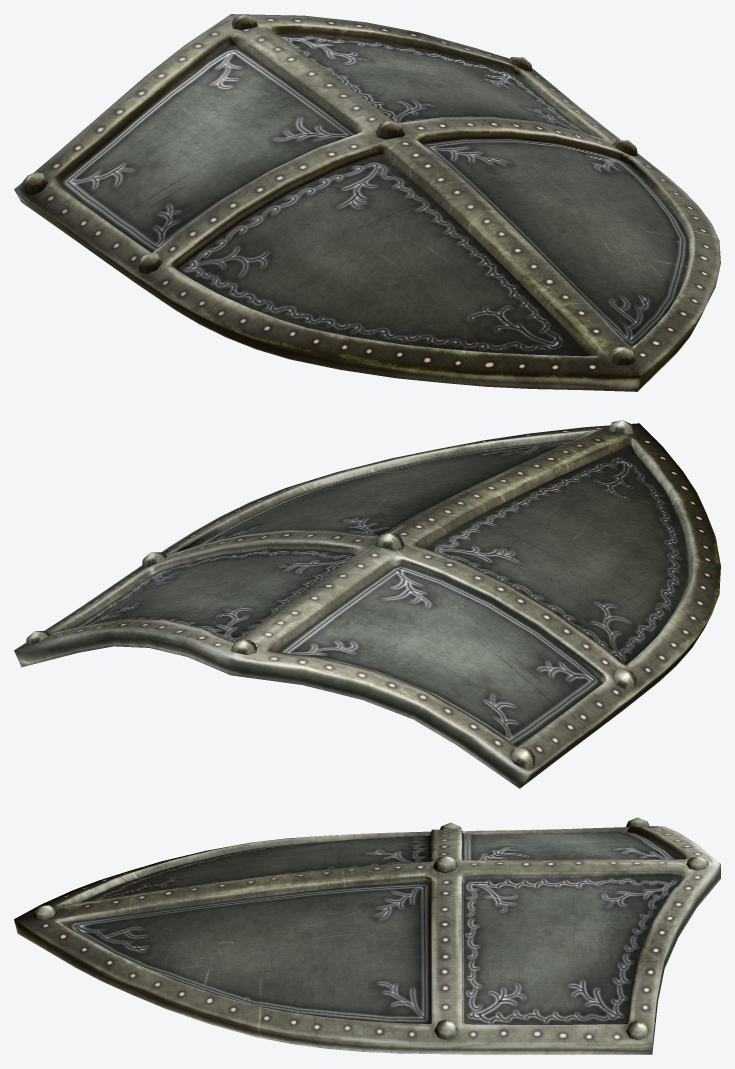
Rendered from Heater_A.FBX.
The picture shows the model from 3 angles, top to bottom: view 1: azimuth 30°, elevation 25°; view 2: azimuth 150°, elevation 25°; view 3: azimuth 270°, elevation 25°; orthographic projection. The views are drawn at different scales.
Parts seen in each view (by area): view 1: Heater_A; view 2: Heater_A; view 3: Heater_A.
Boxes of the visible parts, <box> form: Heater_A: <box>14,14,720,391</box>; Heater_A: <box>14,420,720,788</box>; Heater_A: <box>14,817,720,1054</box>.
Bounding box in the file's own units: 44.51 × 9.97 × 61.32.
